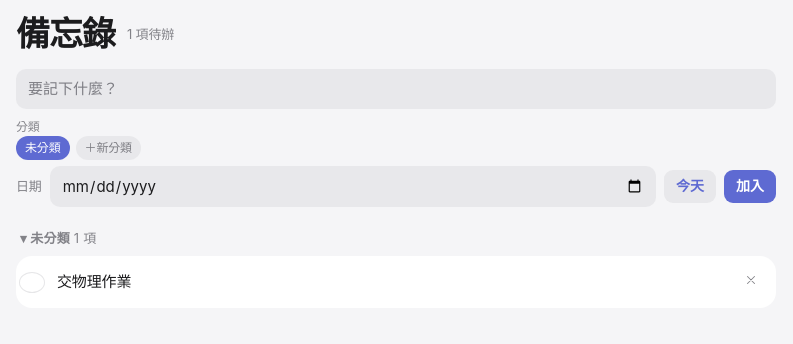
Test case: 備忘錄更新失敗復原 › PATCH 後連重讀也失敗時鎖住該筆，重試只重新載入
What coordinates should you click on to do the following:
click the checkbox named "完成「交物理作業」"
I would click on:
 (32, 282)
Its box is 19,272 -> 45,293.
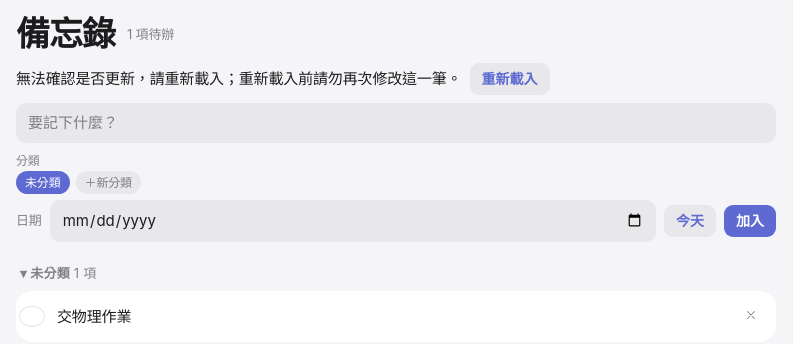
Expected: the checkbox named "完成「交物理作業」" is disabled, 19,306 -> 45,327
Expected: the message shows "無法確認是否更新", 16,69 -> 462,88
What coordinates should you click on to do the following:
click the button "重新載入"
I would click on:
 (510, 79)
Its box is 470,63 -> 550,95.
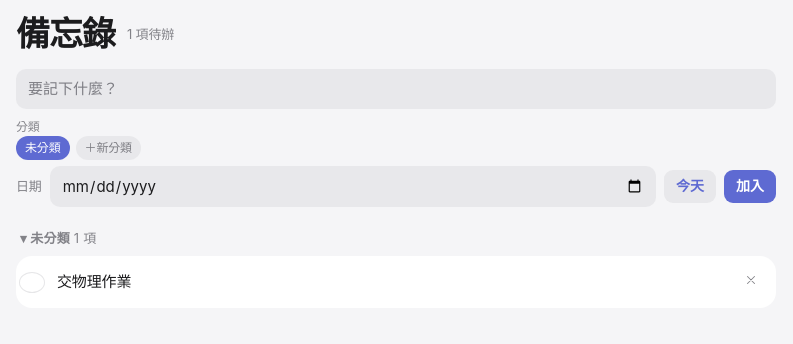
Expected: the message "無法確認是否更新，請重新載入；重新載入前請勿再次修改這一筆。 重新載入" is gone
Expected: the checkbox named "完成「交物理作業」" is enabled, 19,272 -> 45,293
